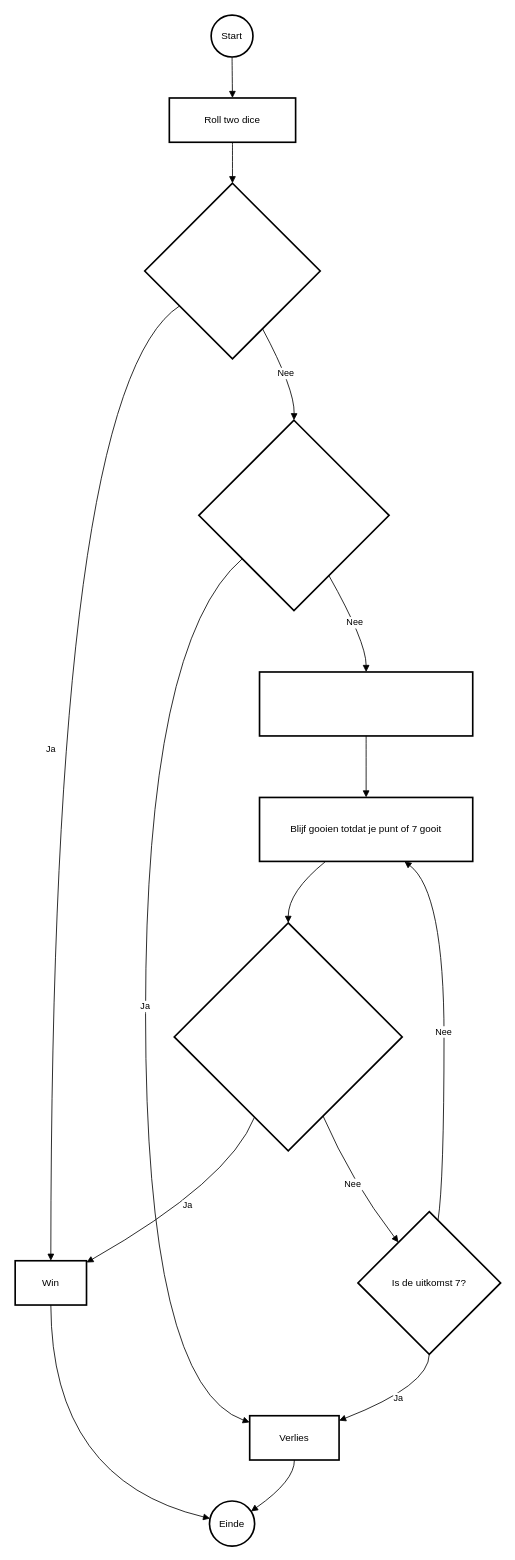
Some shapes in this 515 by 1560 pixel diagram are drawn without their labels. Each missing label, with the box of its shape:
Is de uitkomst 2, 3 of 12?: (198, 419, 390, 611)
Is de uitkomst 7 of 11?: (144, 182, 321, 359)
Is de uitkomst gelijk aan punt?: (173, 922, 403, 1151)
Stel punt in, punt = uitkomst: (258, 671, 473, 736)
